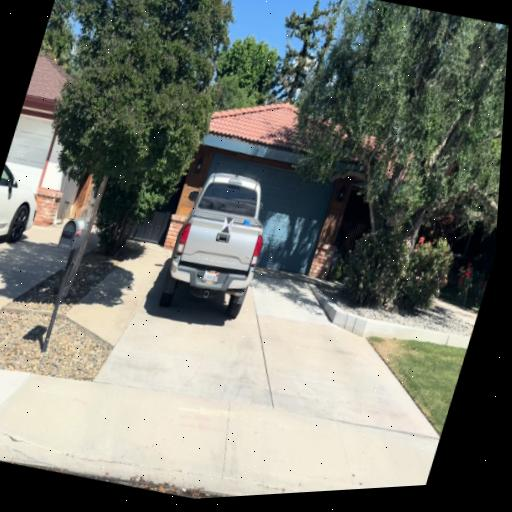target1: (222, 217, 234, 233)
